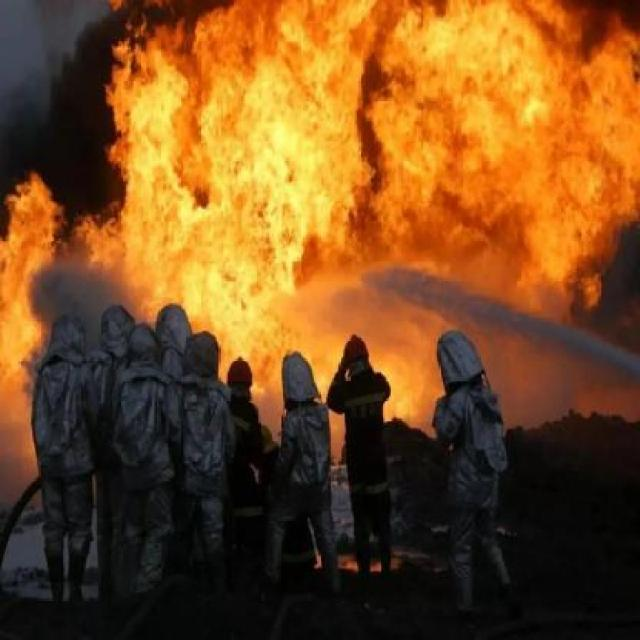Fire: (114, 1, 378, 372), (384, 8, 636, 322), (2, 177, 60, 468)
Smoke: (40, 17, 119, 215)
